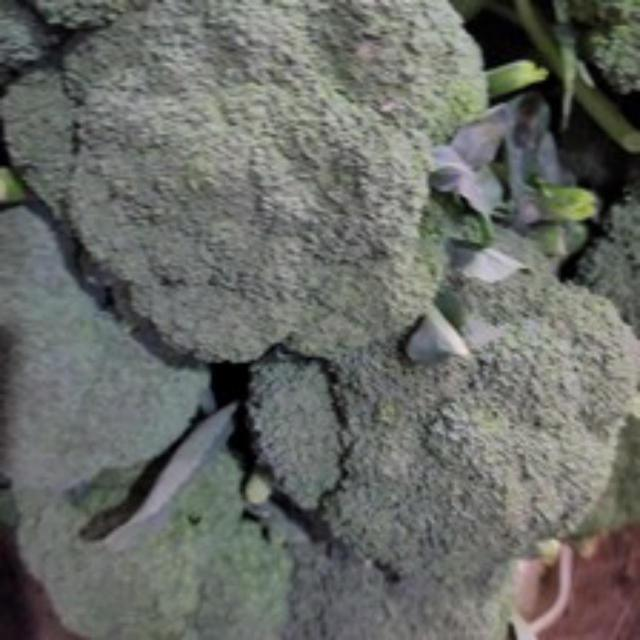broccoli: (15, 0, 504, 370)
